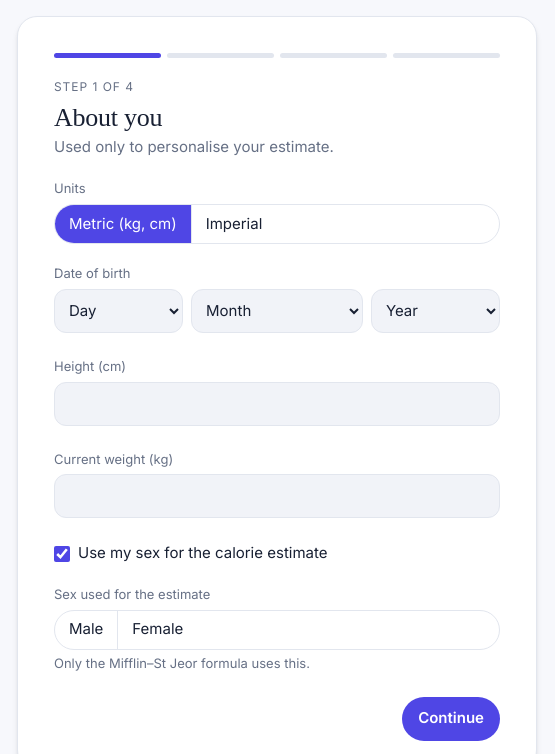
OnboardingWizard › blocks step 1 until the required fields are valid
The image size is (555, 754).
Click the button "Continue" at (451, 718), box x1=402 y1=696 x2=500 y2=740
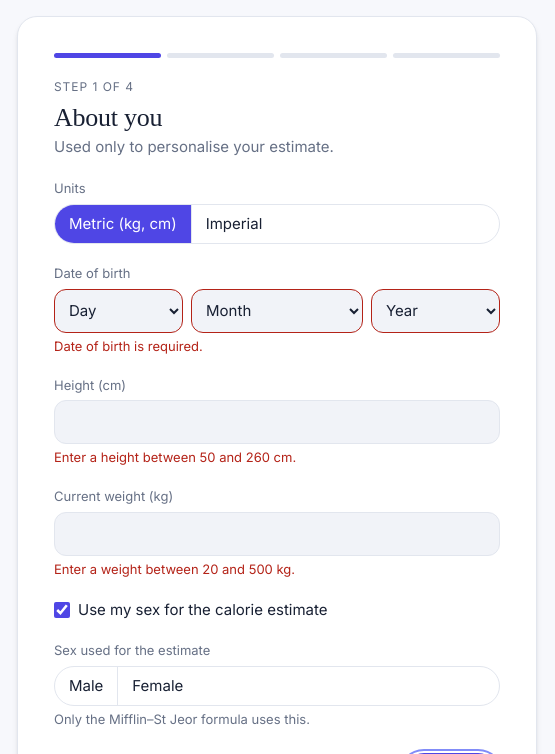
Check: the heading "About you" is shown, box x1=54 y1=103 x2=162 y2=132
Check: the text "Date of birth is required." is shown, box x1=54 y1=338 x2=203 y2=354
